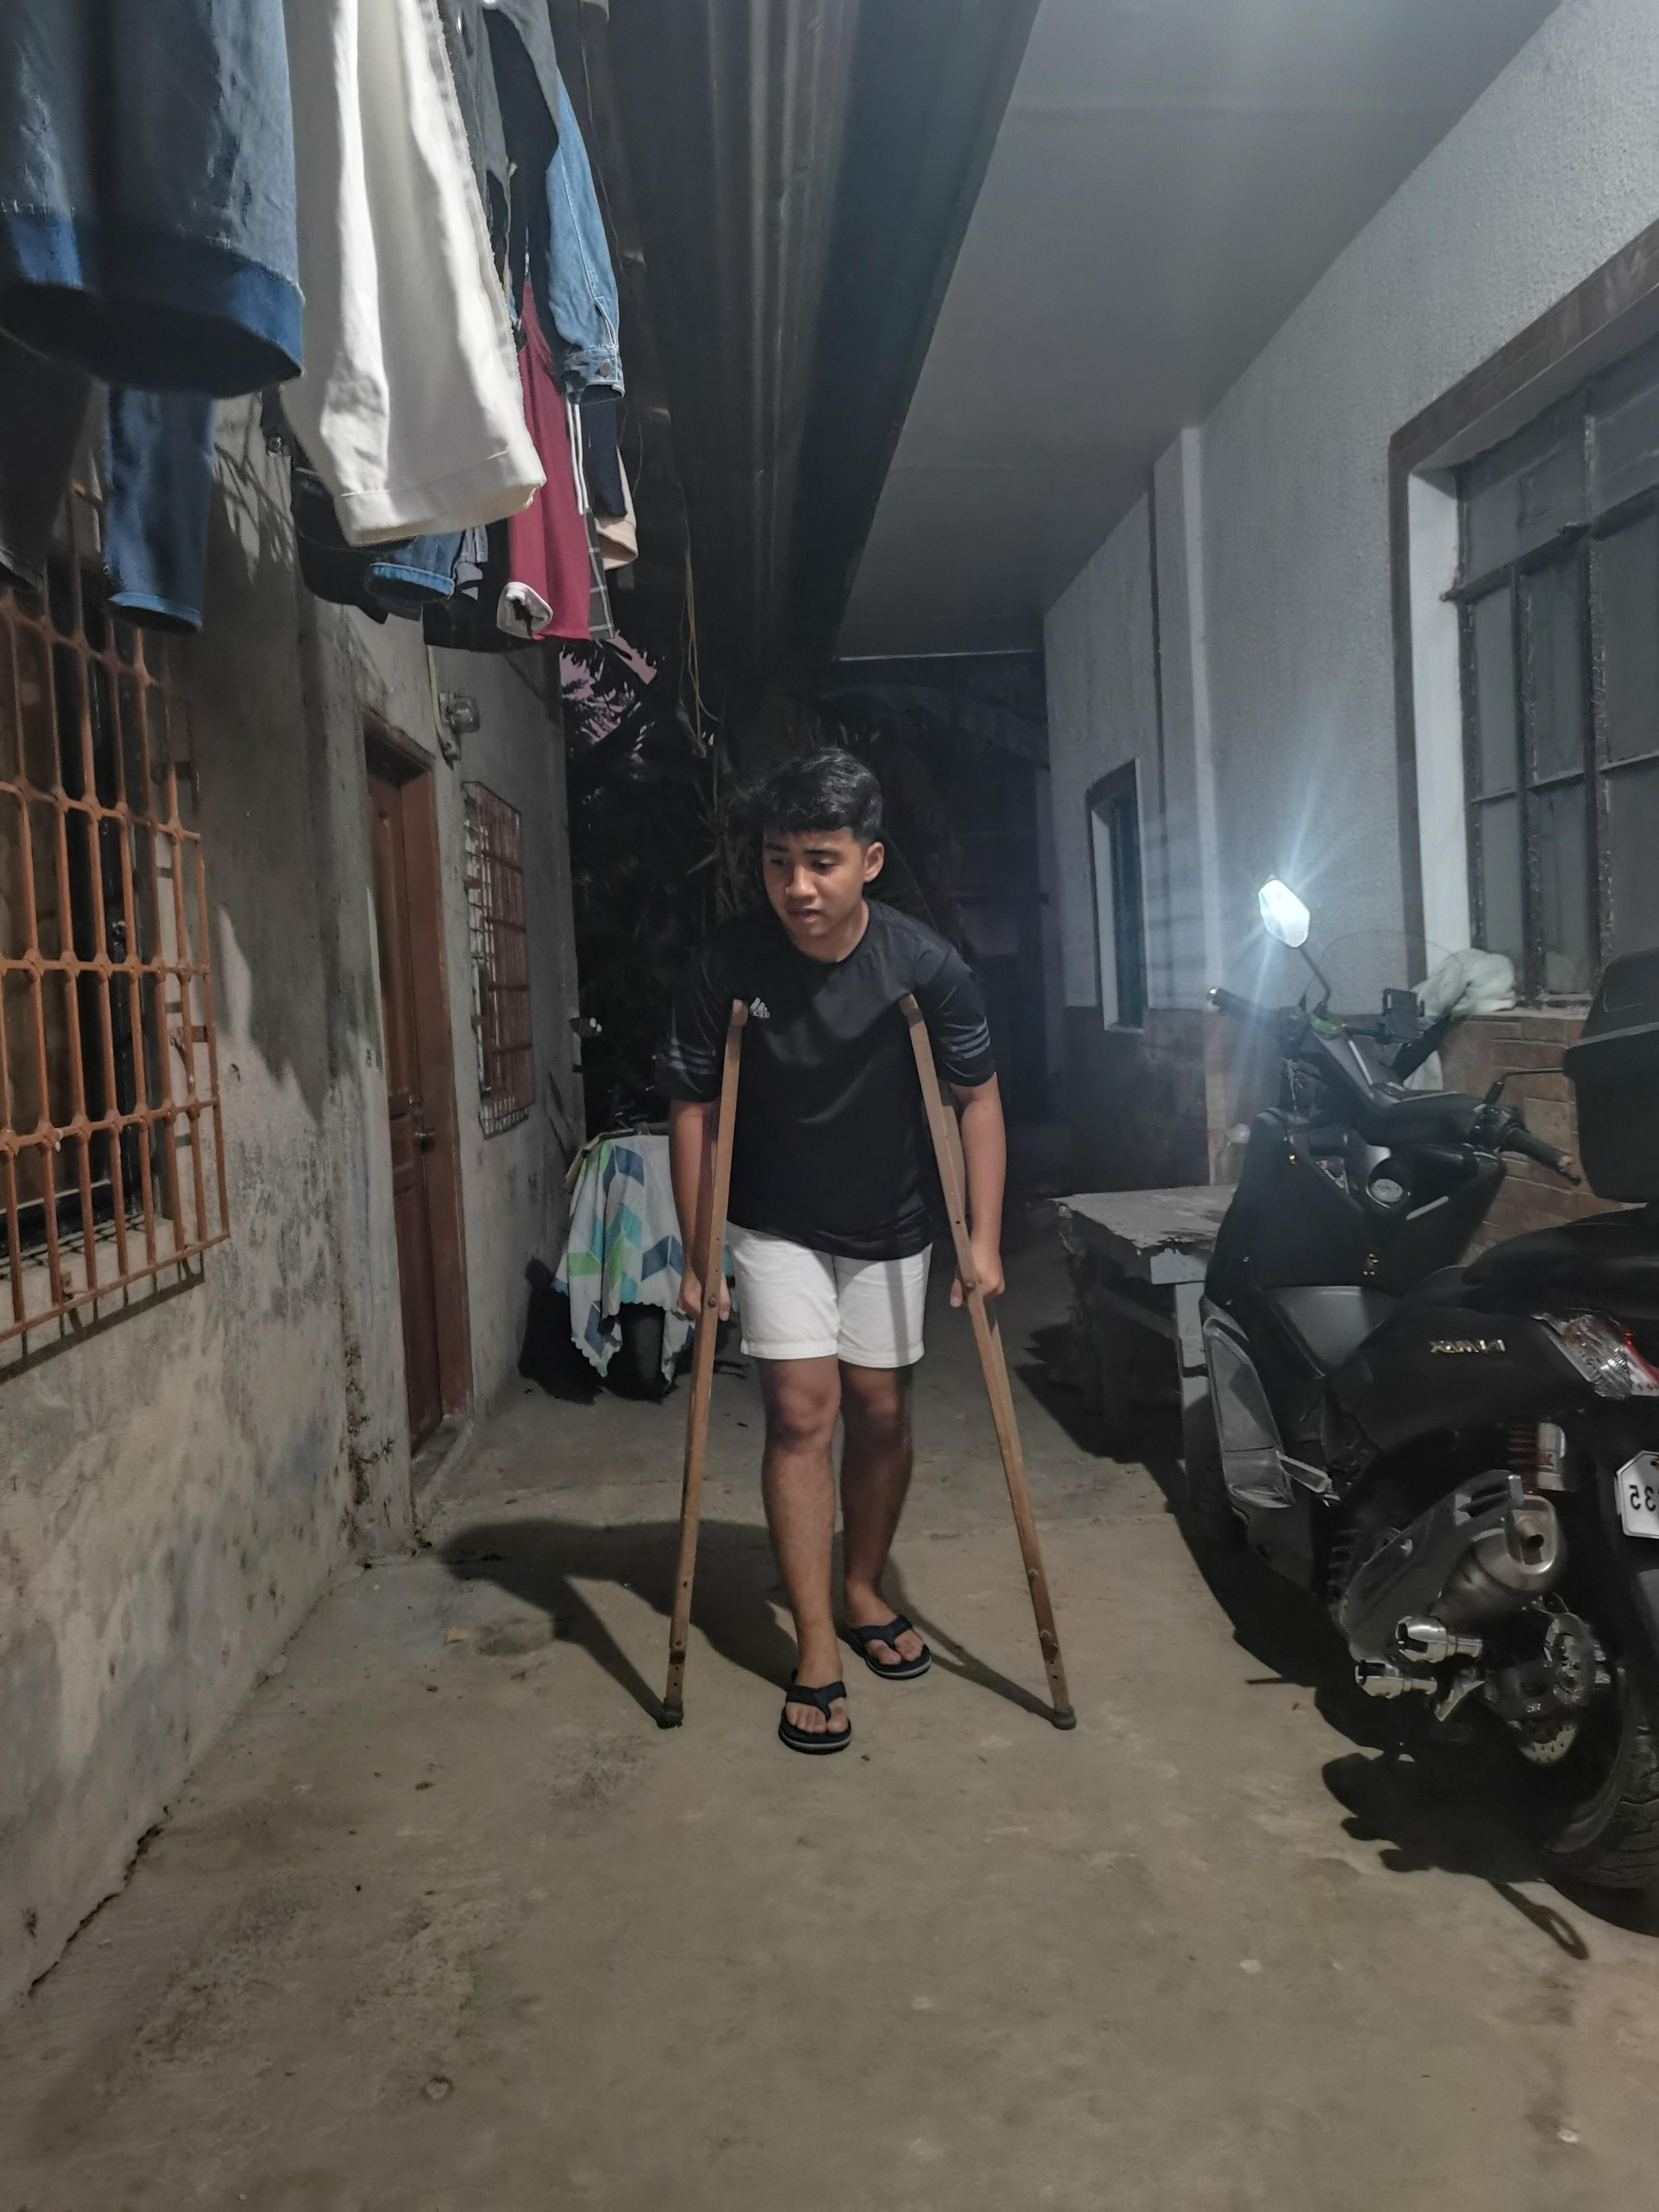crutches: (648, 721, 1094, 1766)
